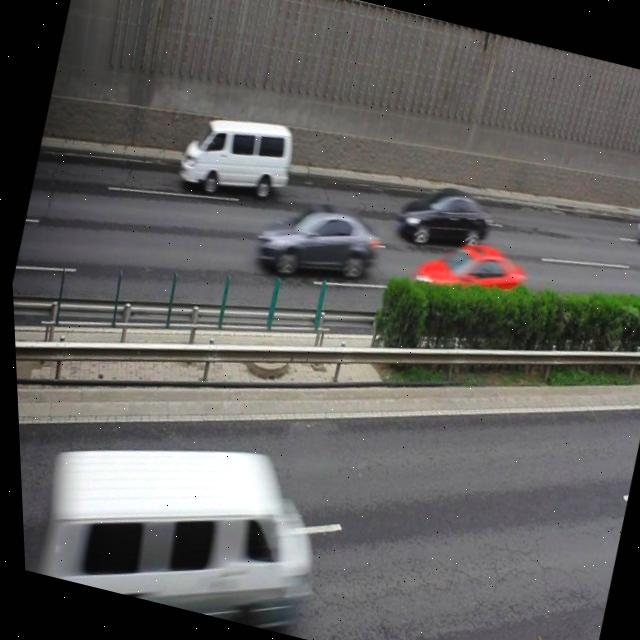car: (250, 193, 384, 294), (404, 232, 526, 320), (392, 178, 491, 254), (629, 198, 640, 255)
truck: (22, 405, 325, 635), (172, 106, 297, 208)
